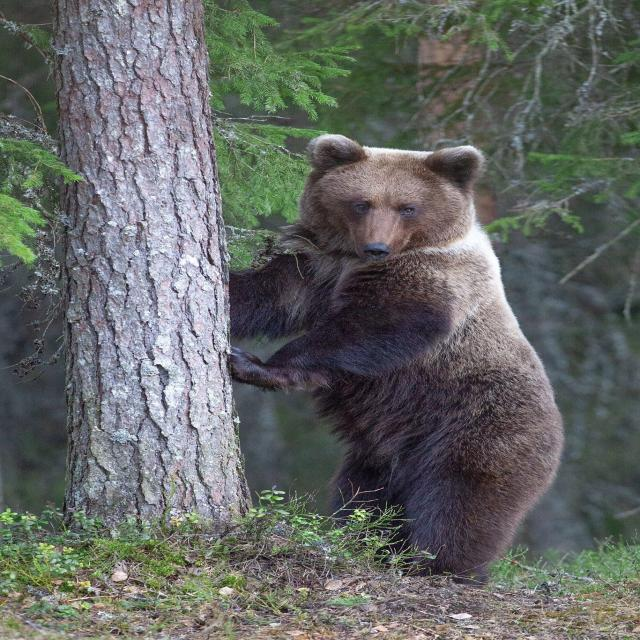Bear: (230, 135, 565, 579)
